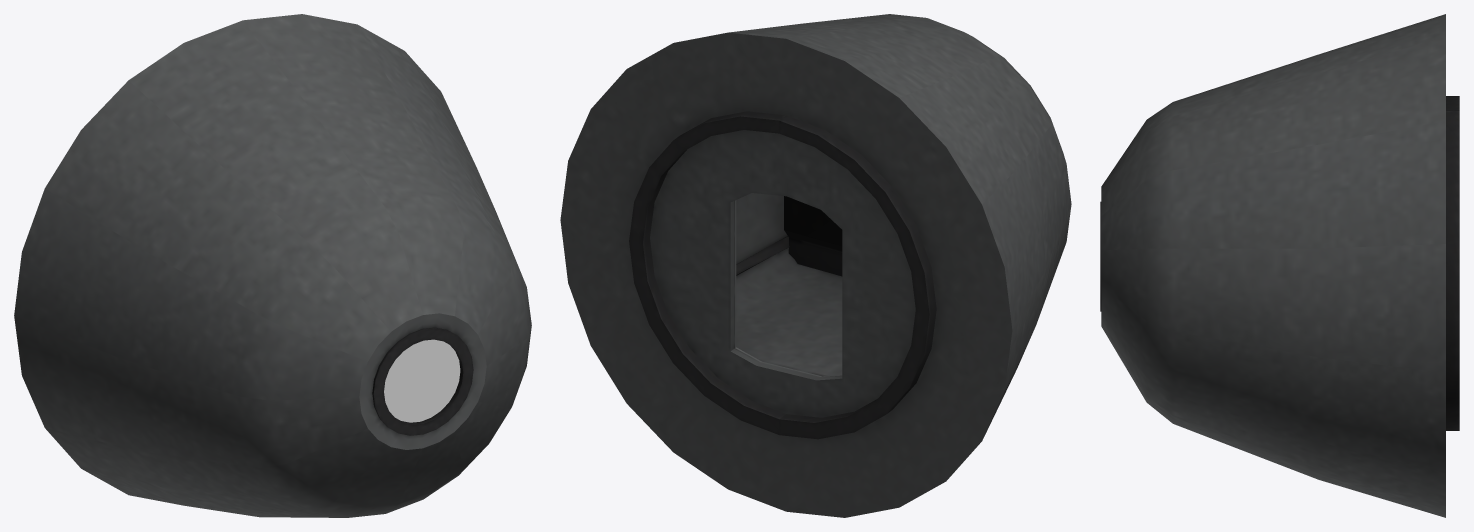
File: sftm_helm.fbx
3 renders of one model, left to right at view 1: azimuth 30°, elevation 25°; view 2: azimuth 150°, elevation 25°; view 3: azimuth 270°, elevation 25°, orthographic. The views are drawn at different scales.
Visible parts, largest first — view 1: helm_hull, heml_window; view 2: helm_hull; view 3: helm_hull.
Part boxes in pixels (x1,y1,x2,y2): helm_hull: (14,14,531,517); heml_window: (384,339,460,422); helm_hull: (560,14,1071,517); helm_hull: (1100,14,1459,517).
Size of the model in its own units: 680 by 680 by 483.
